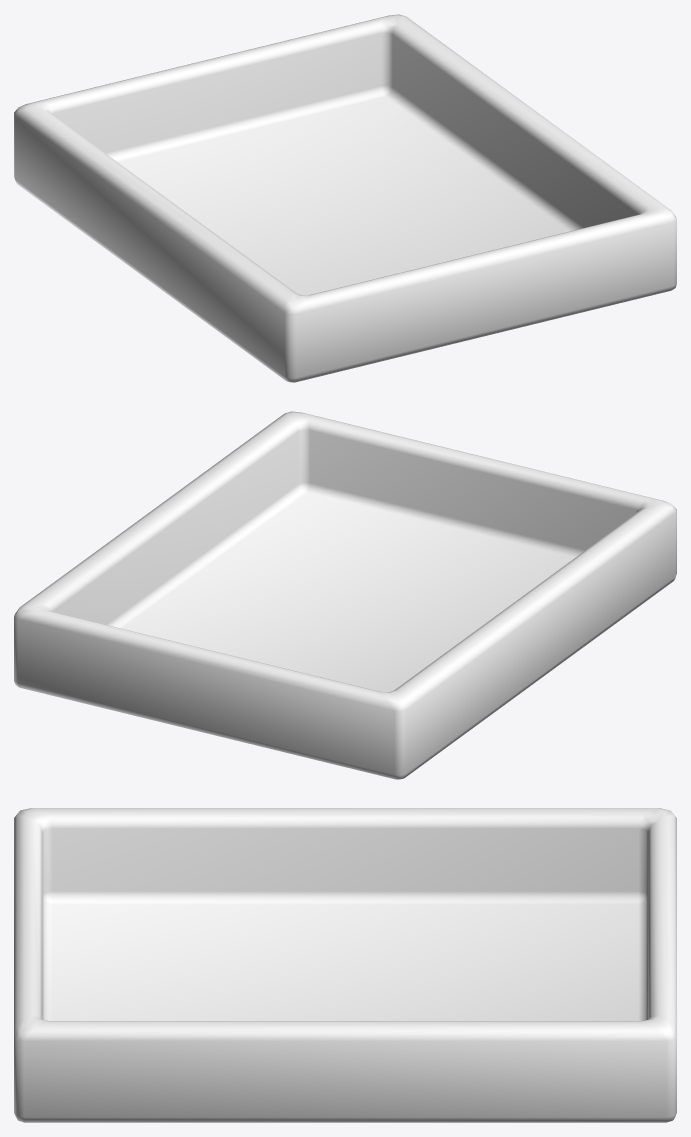
The model's file is BeerCartoon.fbx.
3 views of the same model, one above another, from view 1: azimuth 30°, elevation 25°; view 2: azimuth 150°, elevation 25°; view 3: azimuth 270°, elevation 25° (orthographic). The views are drawn at different scales.
Parts seen in each view (by area): view 1: Cartoon; view 2: Cartoon; view 3: Cartoon.
Boxes of the visible parts, <box> form: Cartoon: <box>14,14,676,382</box>; Cartoon: <box>14,411,676,779</box>; Cartoon: <box>14,808,676,1122</box>.
Size of the model in its own units: 258 by 50.1 by 318.
